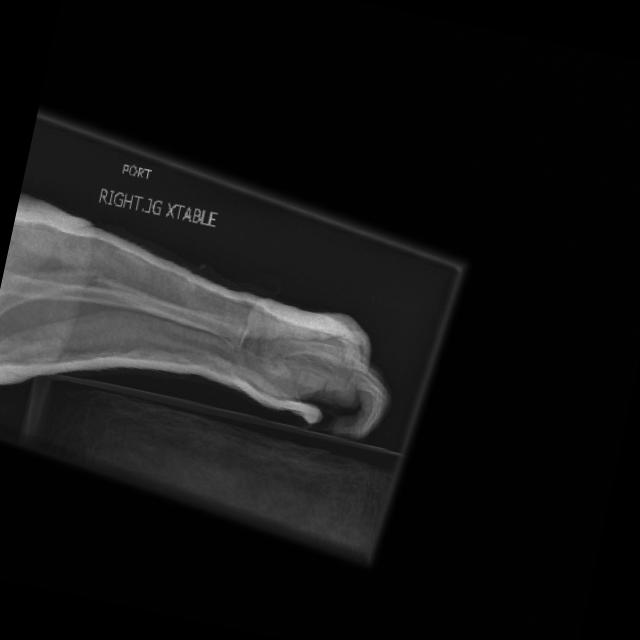forearm fracture: (63, 262, 132, 303)
